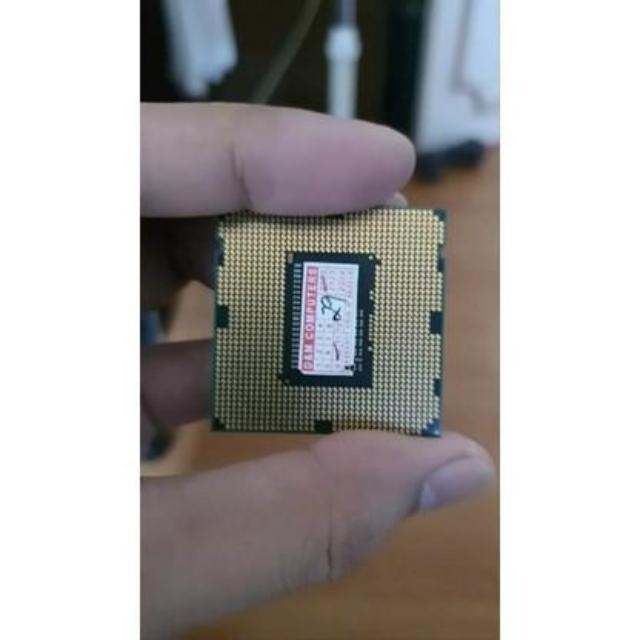CPU: (220, 206, 446, 438)
